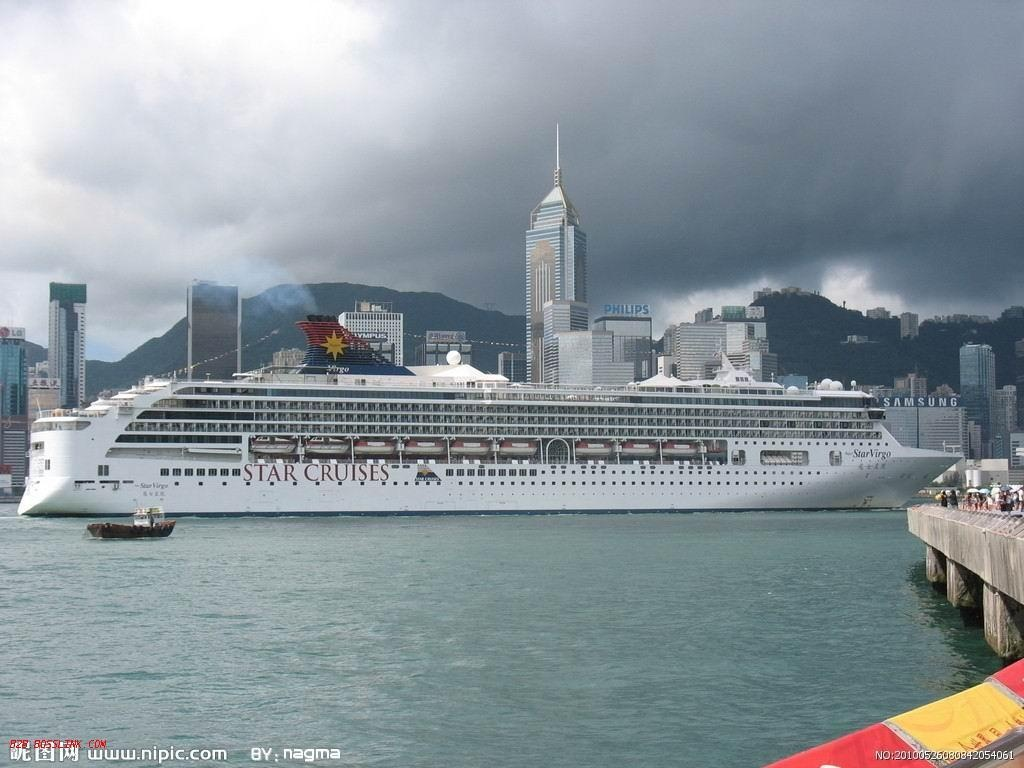youlun: (11, 312, 969, 515)
